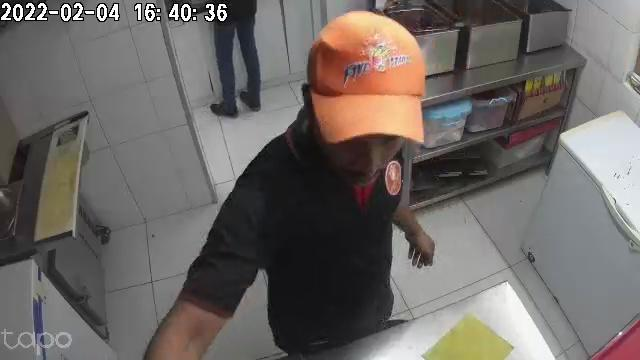no_gloves: (402, 218, 437, 268)
